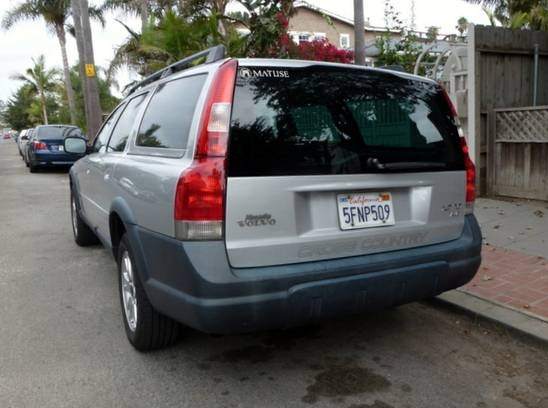volvo: (47, 29, 543, 362)
